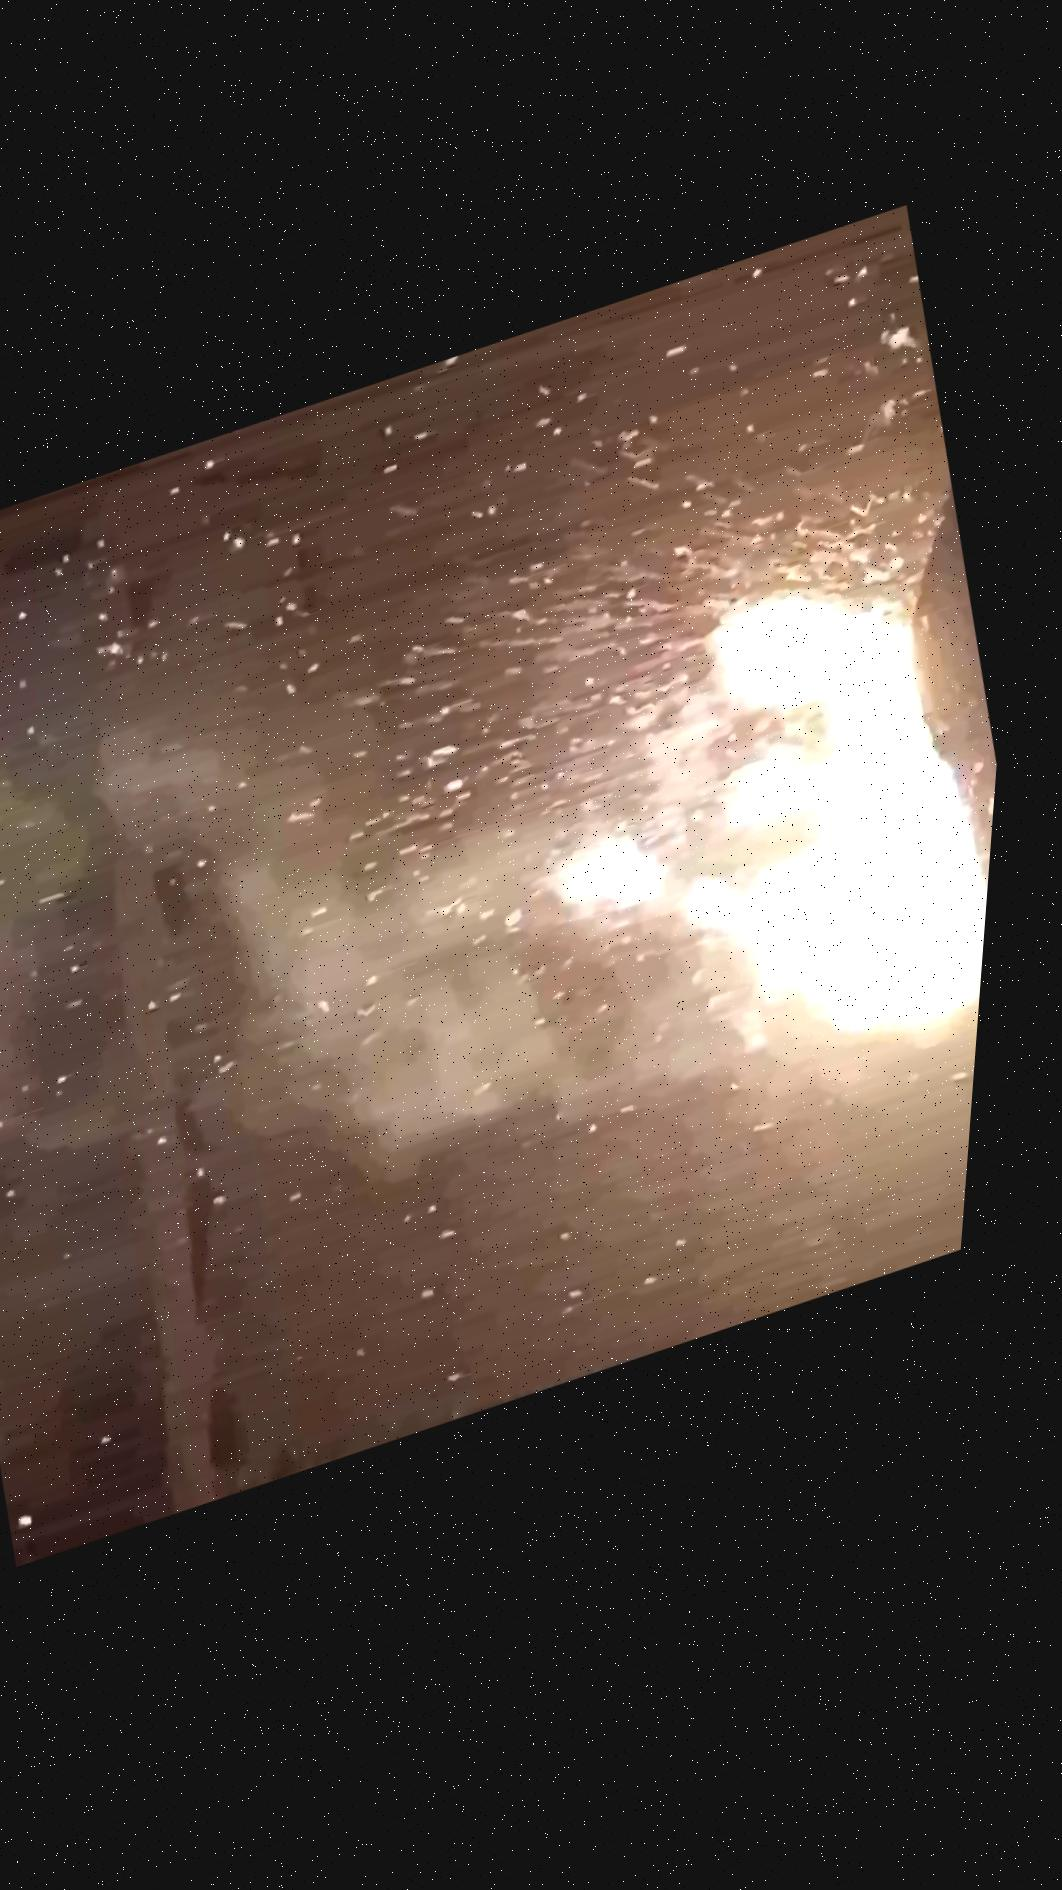fire: (136, 424, 1011, 1372)
